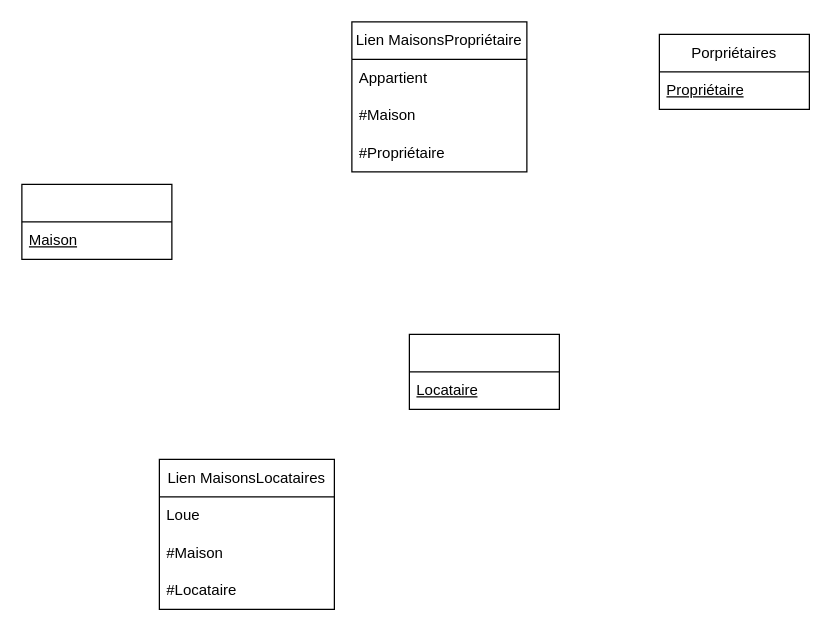
Image size: 831x631. Some labels were removed from this diagram. Here are the shapes that lost their labels. From the top down, the box of each, then its label:
(21, 183, 172, 259): Maisons
(408, 333, 559, 409): Locataires
